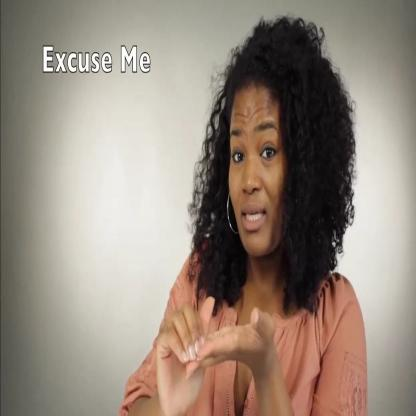ExcuseMe: (146, 24, 368, 416)
